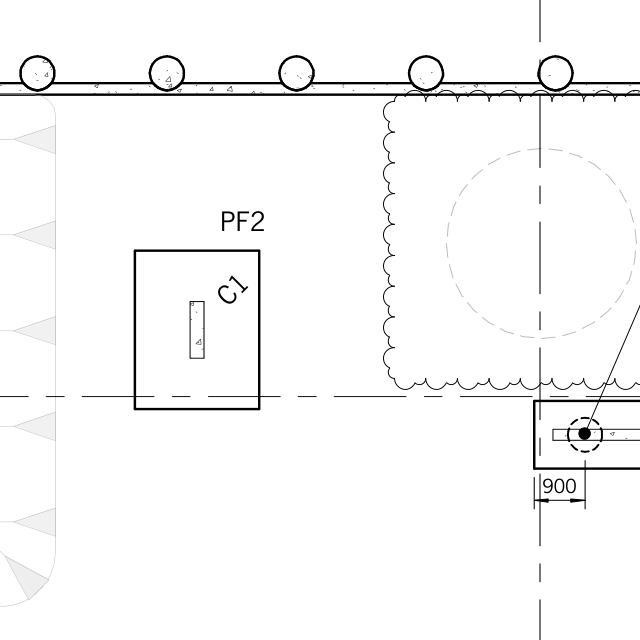C1: (207, 258, 258, 307)
PF2: (205, 205, 276, 240)
